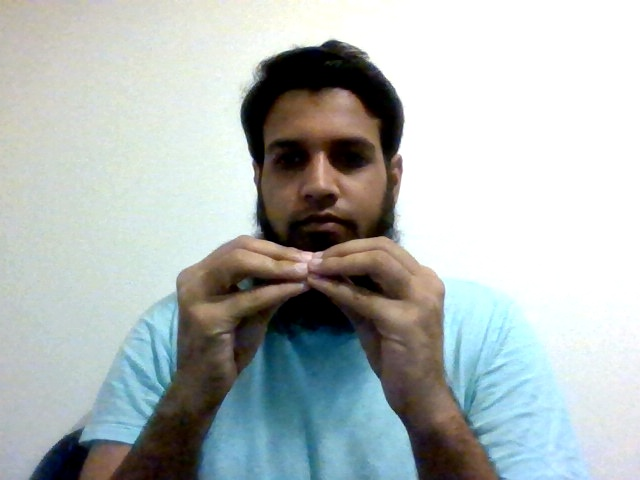more: (175, 234, 448, 411)
